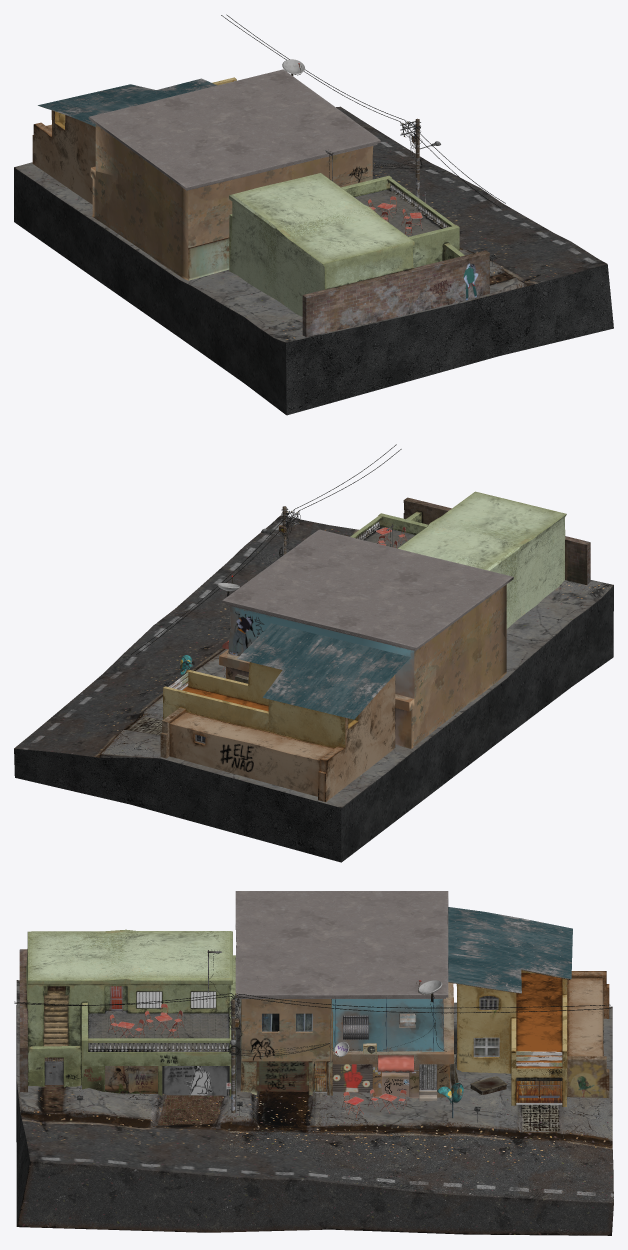
File: favela.fbx
3 views of the same model, one above another, from view 1: azimuth 30°, elevation 25°; view 2: azimuth 150°, elevation 25°; view 3: azimuth 270°, elevation 25° (orthographic). The views are drawn at different scales.
Visible parts, largest first — view 1: Road, mainstructure (×2), polySurface1, wall, polySurface2; view 2: mainstructure (×2), Road, polySurface1, polySurface2, wall; view 3: Road, mainstructure (×2), polySurface1, garage2 (×2), garage1 (×2), gate1 (×2), stairs, wall, rail, woodpanels, window_grate, awning (+6 smaller).
Boxes of the visible parts, x1=… form: Road: x1=14, y1=106, x2=613, y2=415; mainstructure (×2): x1=32, y1=69, x2=380, y2=280; polySurface1: x1=229, y1=173, x2=464, y2=289; wall: x1=302, y1=250, x2=489, y2=336; polySurface2: x1=229, y1=194, x2=324, y2=316; mainstructure (×2): x1=160, y1=529, x2=513, y2=801; Road: x1=14, y1=515, x2=613, y2=862; polySurface1: x1=363, y1=491, x2=566, y2=569; polySurface2: x1=486, y1=514, x2=566, y2=628; wall: x1=403, y1=497, x2=590, y2=584; Road: x1=16, y1=980, x2=613, y2=1235; mainstructure (×2): x1=235, y1=891, x2=609, y2=1106; polySurface1: x1=26, y1=929, x2=235, y2=1096; garage2 (×2): x1=162, y1=1064, x2=372, y2=1095; garage1 (×2): x1=105, y1=1061, x2=308, y2=1093; gate1 (×2): x1=312, y1=1061, x2=562, y2=1104; stairs: x1=43, y1=990, x2=68, y2=1046; wall: x1=19, y1=949, x2=27, y2=1092; rail: x1=88, y1=1038, x2=229, y2=1042; woodpanels: x1=516, y1=1051, x2=562, y2=1066; window_grate: x1=343, y1=1015, x2=368, y2=1039; awning: x1=377, y1=1055, x2=414, y2=1071.
Bounding box in the file's own units: 29.53 × 15.02 × 42.74.
